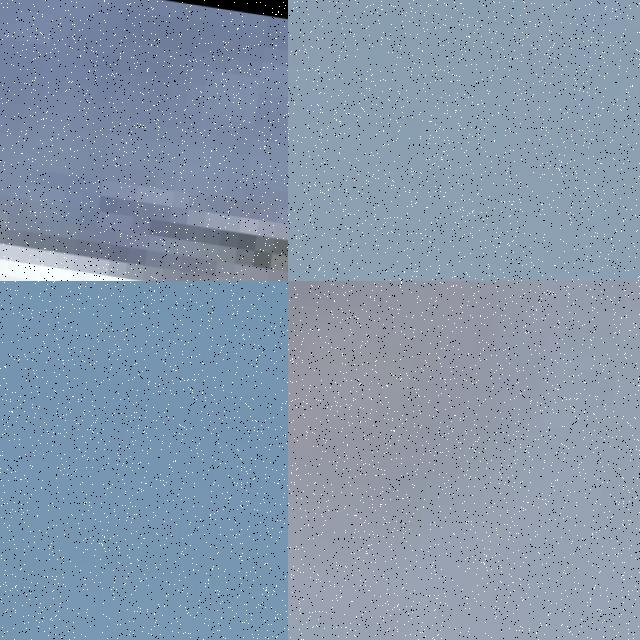0: (0, 0, 288, 281)
drone: (0, 281, 288, 640)
